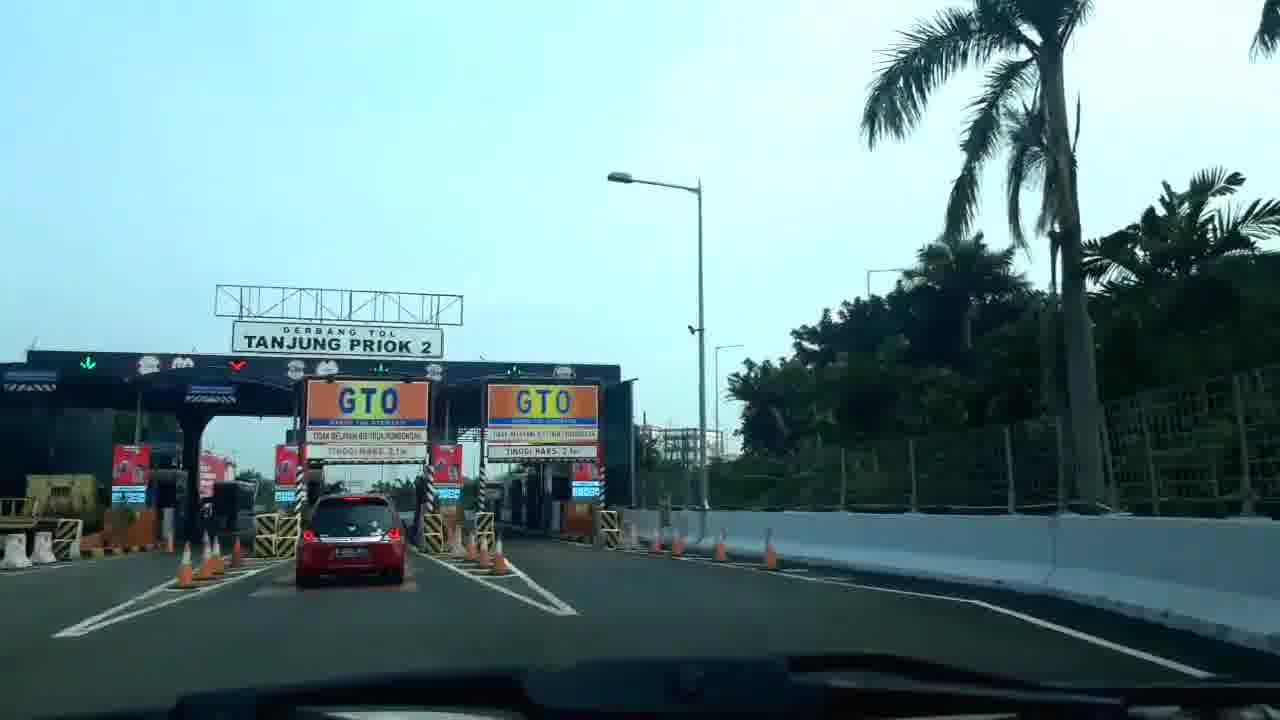plate_positive: (334, 546, 370, 559)
